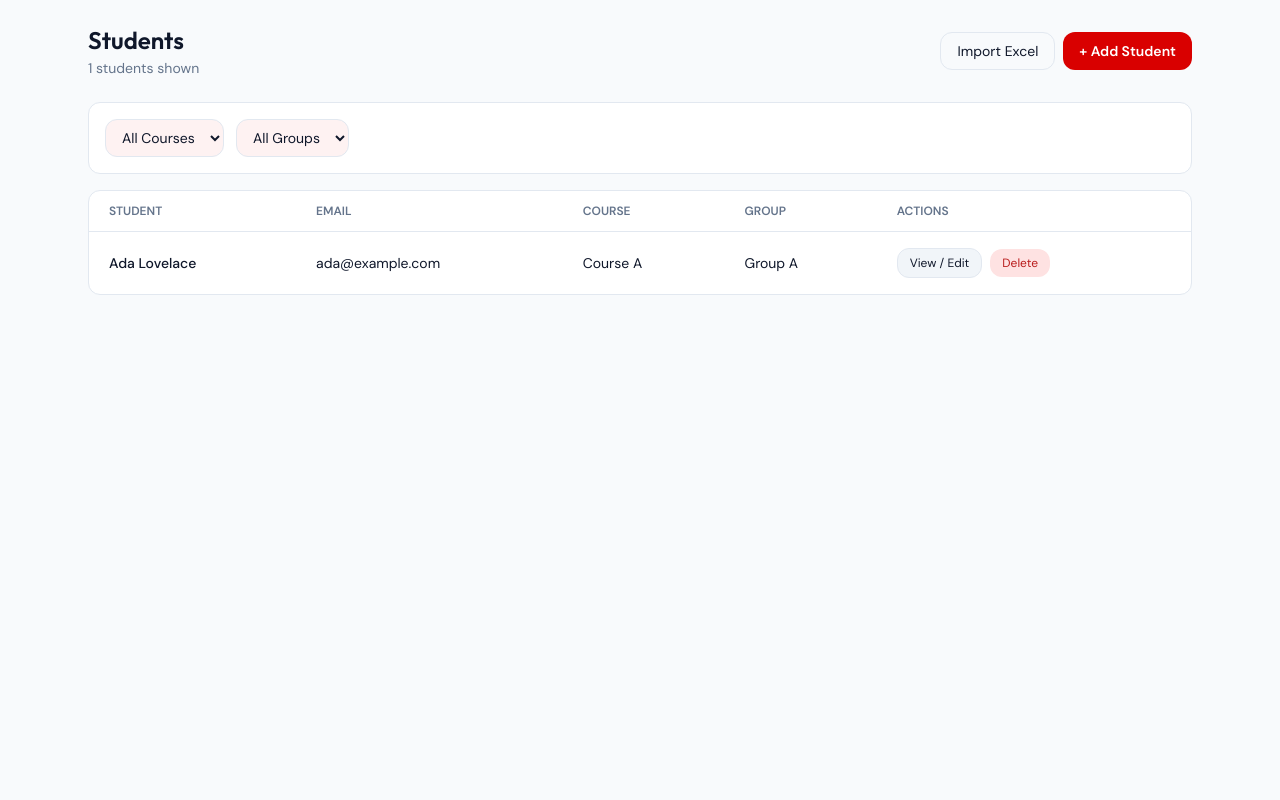
AdminStudents › opens the add-student modal with an empty form
This screenshot has width=1280, height=800.
Expected: the heading "Students" is shown, 88,24 -> 199,56
Expected: the text "Ada Lovelace" is shown, 89,232 -> 296,294
Click the button "+ Add Student". click: (1128, 51)
box: 1063,32 -> 1192,70
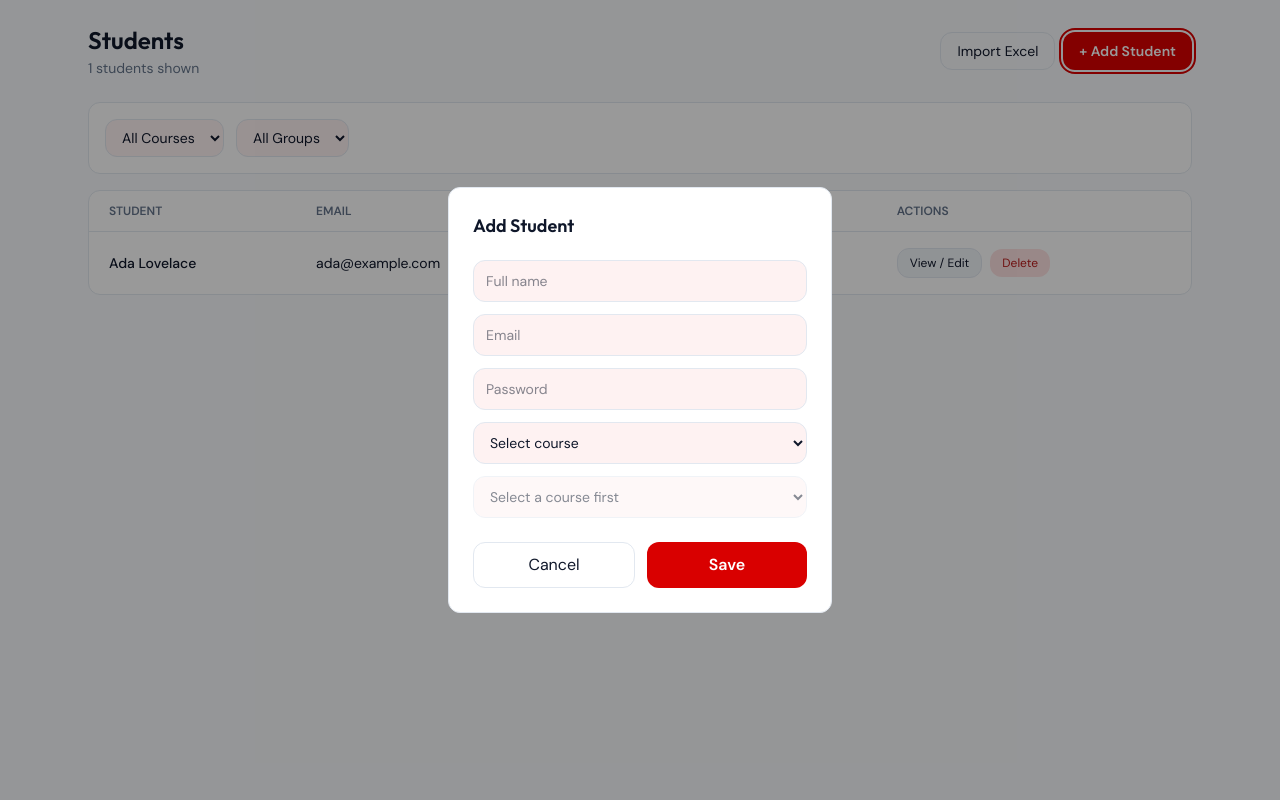
Expected: the heading "Add Student" is shown, 473,214 -> 574,237
Expected: the field with placeholder "Full name" is empty, 473,260 -> 807,302
Expected: the password field with placeholder "Password" is shown, 473,368 -> 807,410
